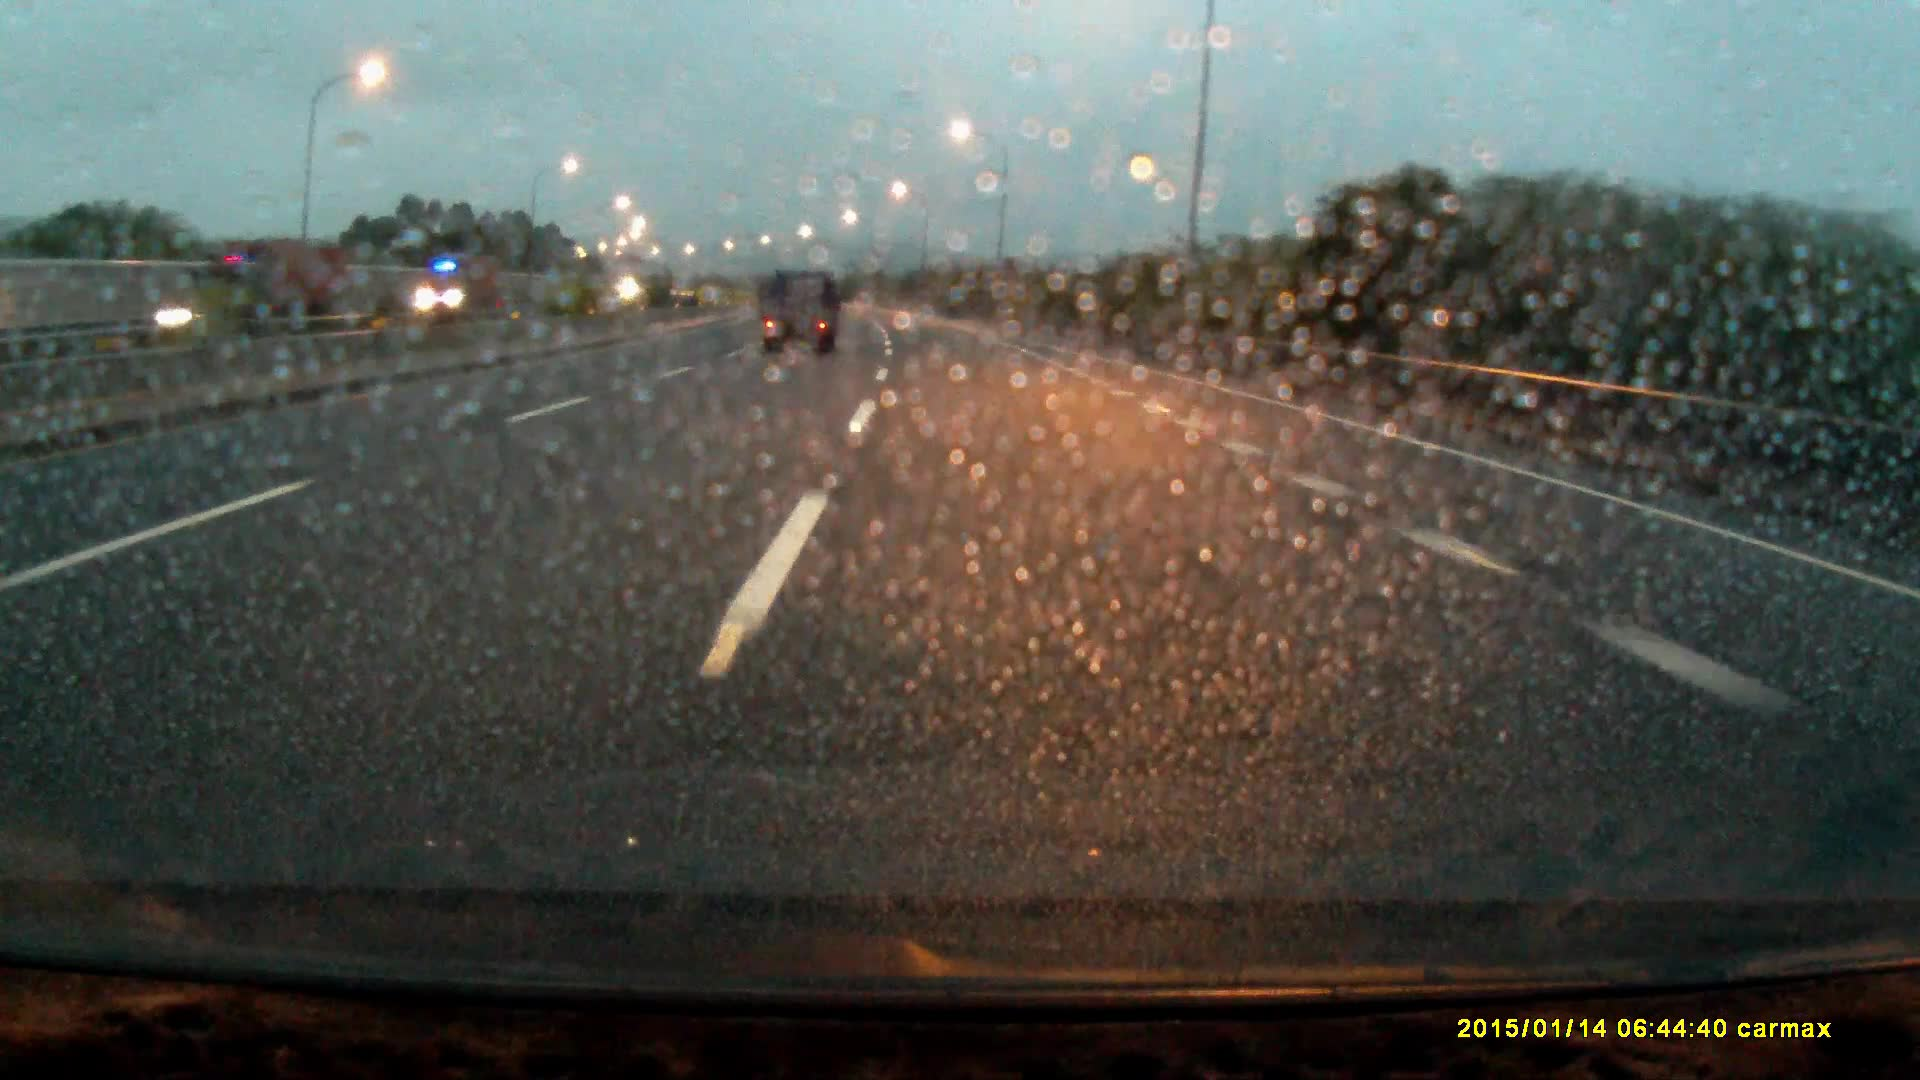vehicle: (175, 243, 343, 332), (760, 272, 839, 361), (411, 251, 500, 318)
